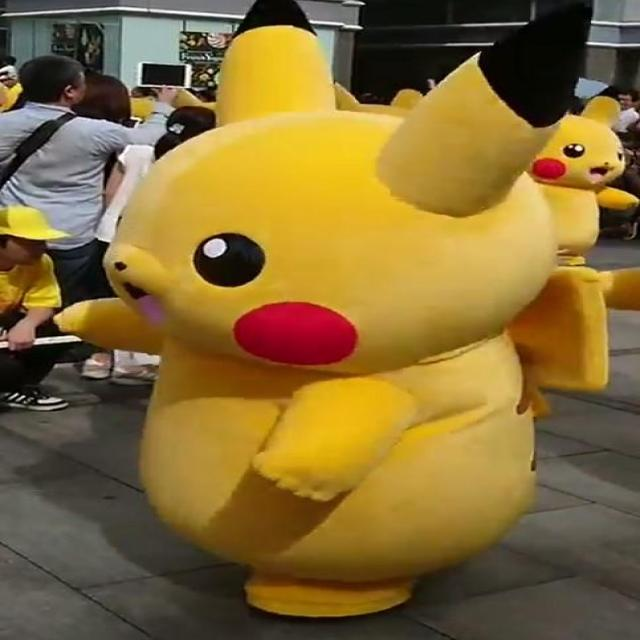pikachu: (58, 0, 600, 620)
